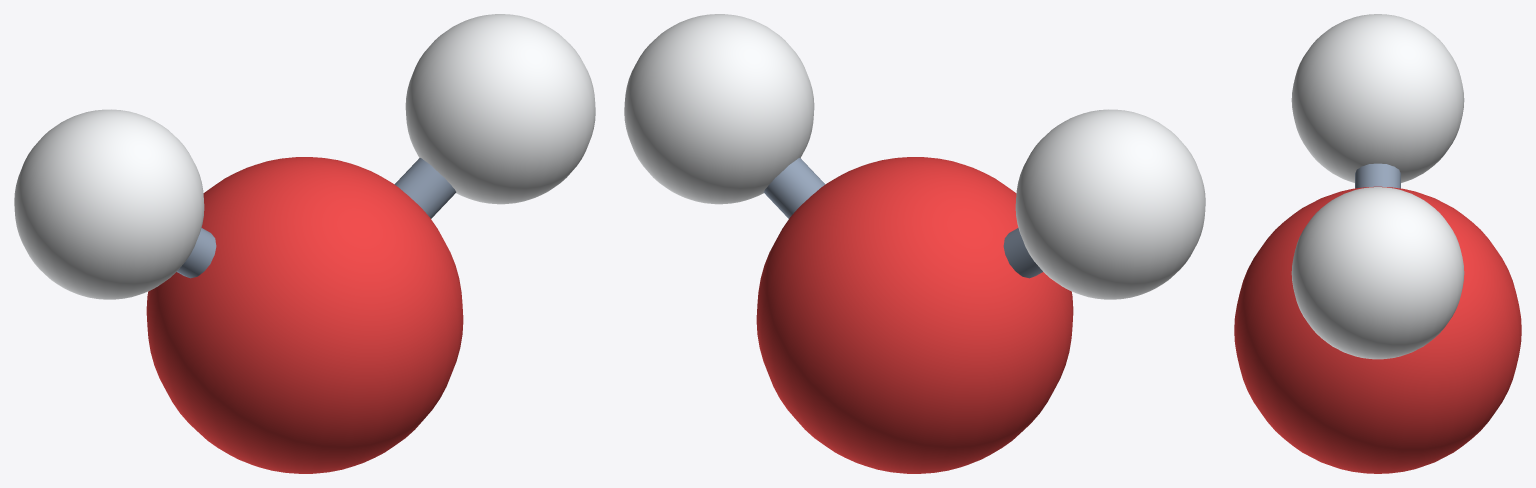
The picture shows the model from 3 angles, left to right: view 1: azimuth 30°, elevation 25°; view 2: azimuth 150°, elevation 25°; view 3: azimuth 270°, elevation 25°; orthographic projection. The views are drawn at different scales.
Size of the model in its own units: 2.02 by 1.35 by 1.
